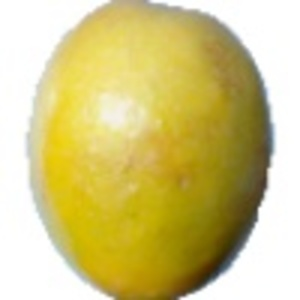maracujá: (28, 1, 278, 300)
